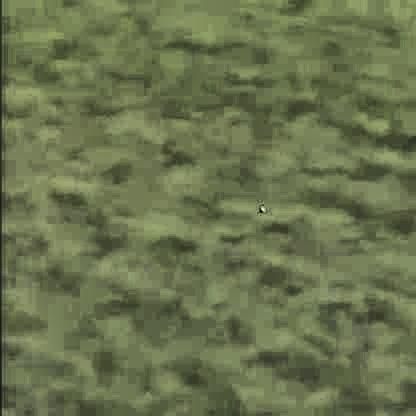golfball: (256, 205, 263, 210)
